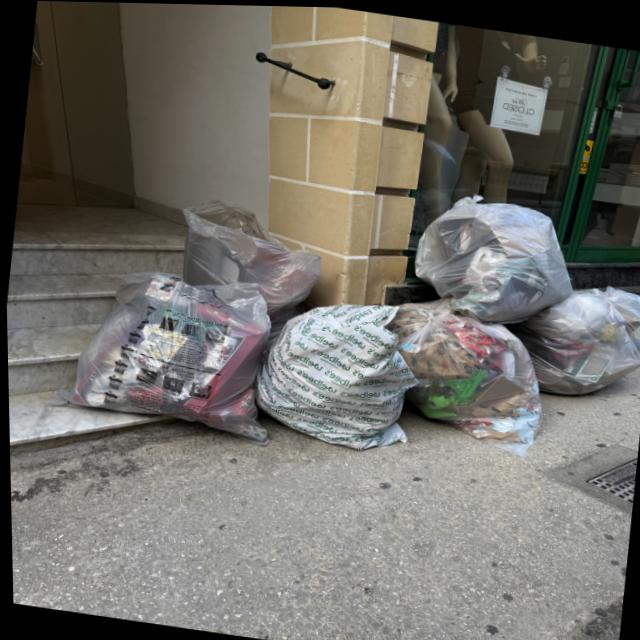Others Waste: (253, 303, 416, 448)
Recyclable Material -Grey Bags-: (46, 197, 320, 443), (383, 192, 640, 454)
